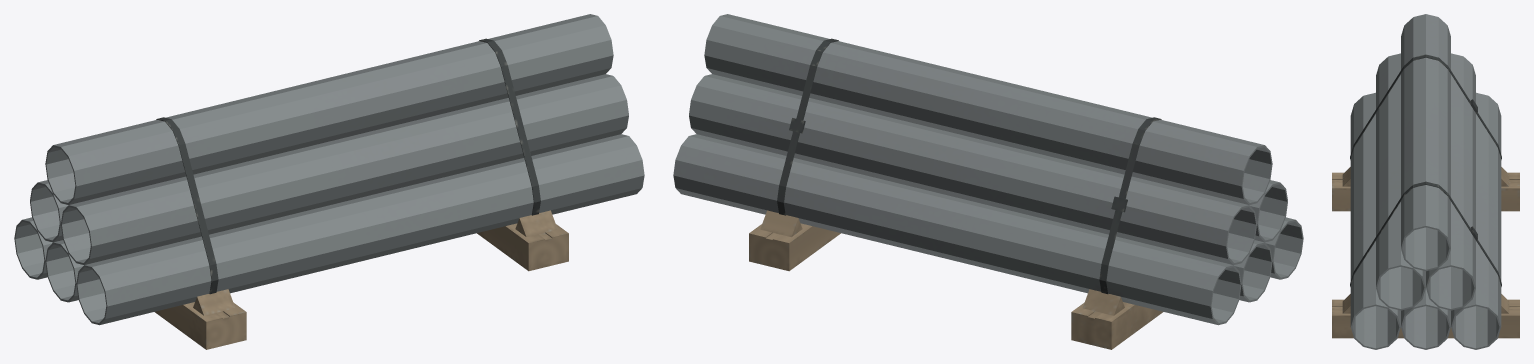
Rendered from steel_pipe_stack_small.glb.
3 renders of one model, left to right at view 1: azimuth 30°, elevation 25°; view 2: azimuth 150°, elevation 25°; view 3: azimuth 270°, elevation 25°, orthographic. The views are drawn at different scales.
Parts seen in each view (by area): view 1: PipeStackSmall; view 2: PipeStackSmall; view 3: PipeStackSmall.
Part boxes in pixels (x1=…): PipeStackSmall: x1=14, y1=14, x2=644, y2=349; PipeStackSmall: x1=673, y1=14, x2=1303, y2=349; PipeStackSmall: x1=1332, y1=14, x2=1519, y2=349.
Size of what is drawn, in the model's own units: 2.4 by 0.7788 by 0.9.
1 material, 1 textured.
